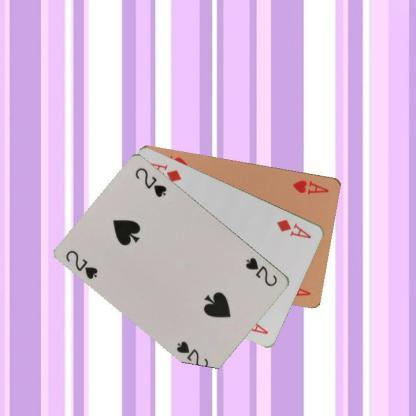2s: (242, 254, 280, 288), (62, 247, 100, 281)
Ad: (274, 217, 314, 240)
Ah: (290, 177, 330, 196)
